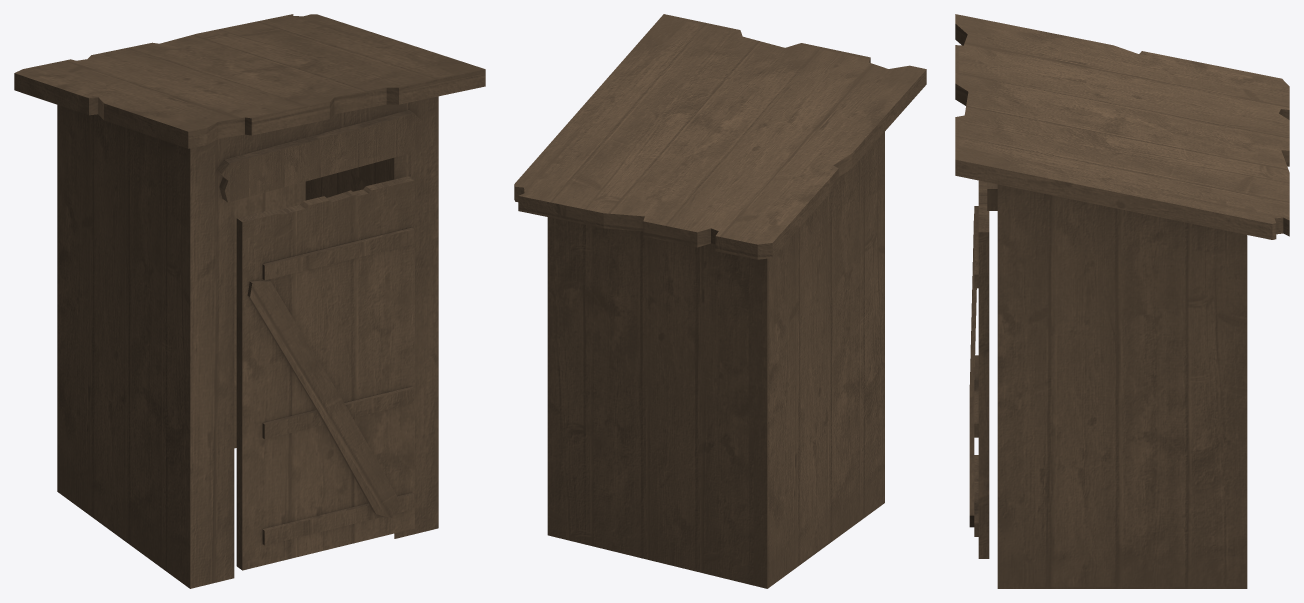
File: Wood_Toilet.fbx
3 views of the same model, side by side, from view 1: azimuth 30°, elevation 25°; view 2: azimuth 150°, elevation 25°; view 3: azimuth 270°, elevation 25° (orthographic). The views are drawn at different scales.
Visible parts, largest first — view 1: Box037; view 2: Box037; view 3: Box037.
Boxes of the visible parts, left/top/right/bottom form: Box037: left=14, top=14, right=485, bottom=588; Box037: left=514, top=14, right=926, bottom=588; Box037: left=955, top=14, right=1289, bottom=588.
Size of the model in its own units: 62.99 by 97.12 by 65.42.
Materials: 1 (1 with a texture image).
